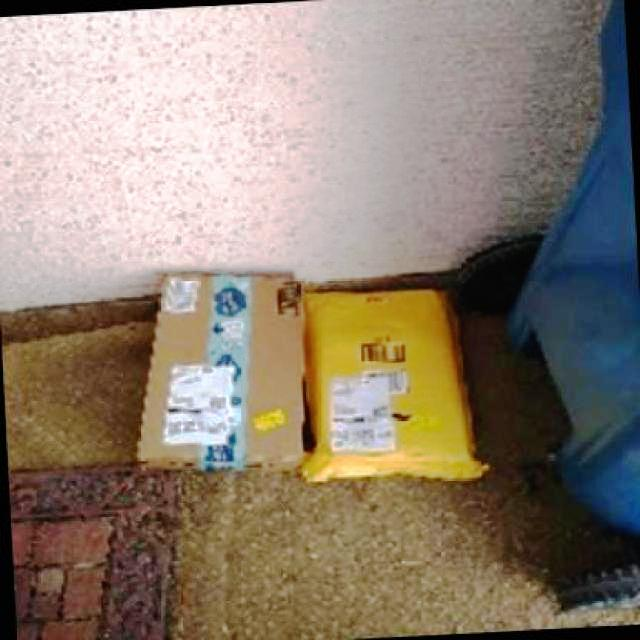Box: (296, 286, 495, 488), (128, 264, 312, 478)
